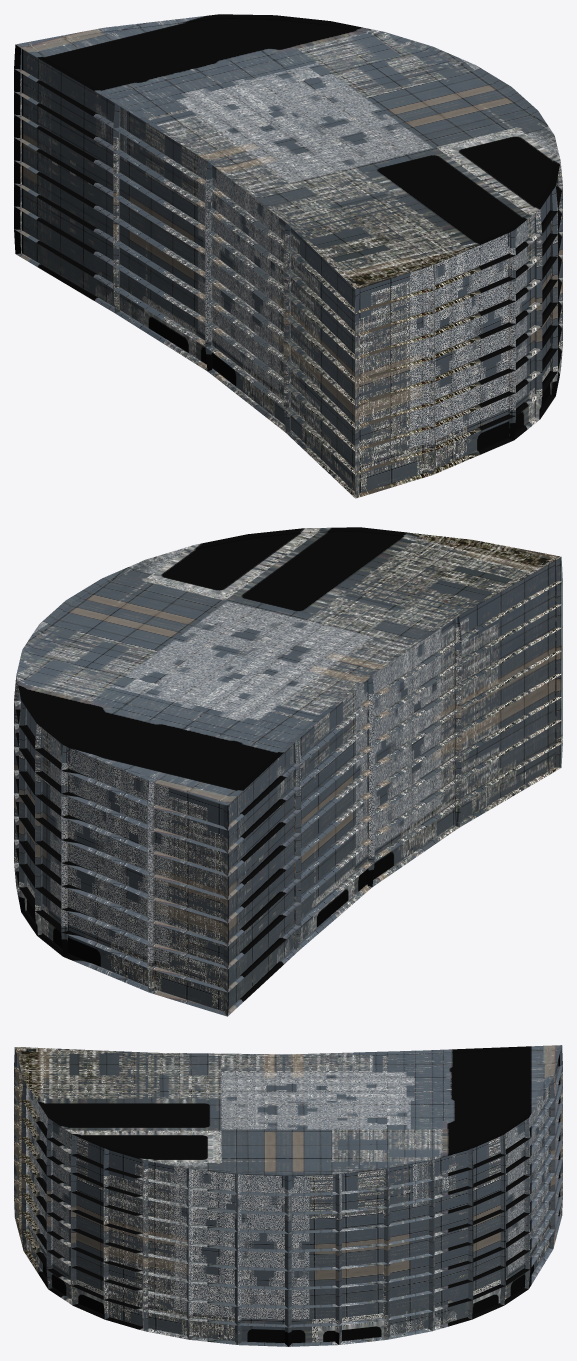
File: SemiCircle.fbx
3 views of the same model, one above another, from view 1: azimuth 30°, elevation 25°; view 2: azimuth 150°, elevation 25°; view 3: azimuth 270°, elevation 25° (orthographic). The views are drawn at different scales.
Parts seen in each view (by area): view 1: Cylinder.002; view 2: Cylinder.002; view 3: Cylinder.002.
Boxes of the visible parts, x1=… form: Cylinder.002: x1=14, y1=14, x2=562, y2=498; Cylinder.002: x1=14, y1=527, x2=562, y2=1016; Cylinder.002: x1=14, y1=1045, x2=562, y2=1346.
Size of the model in its own units: 208 by 126 by 366.
Materials: 1 (1 with a texture image).
